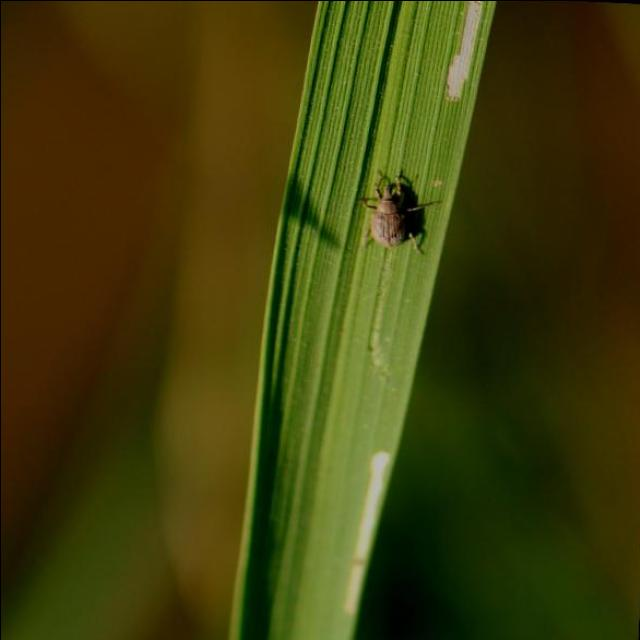ricebug: (357, 175, 432, 253)
